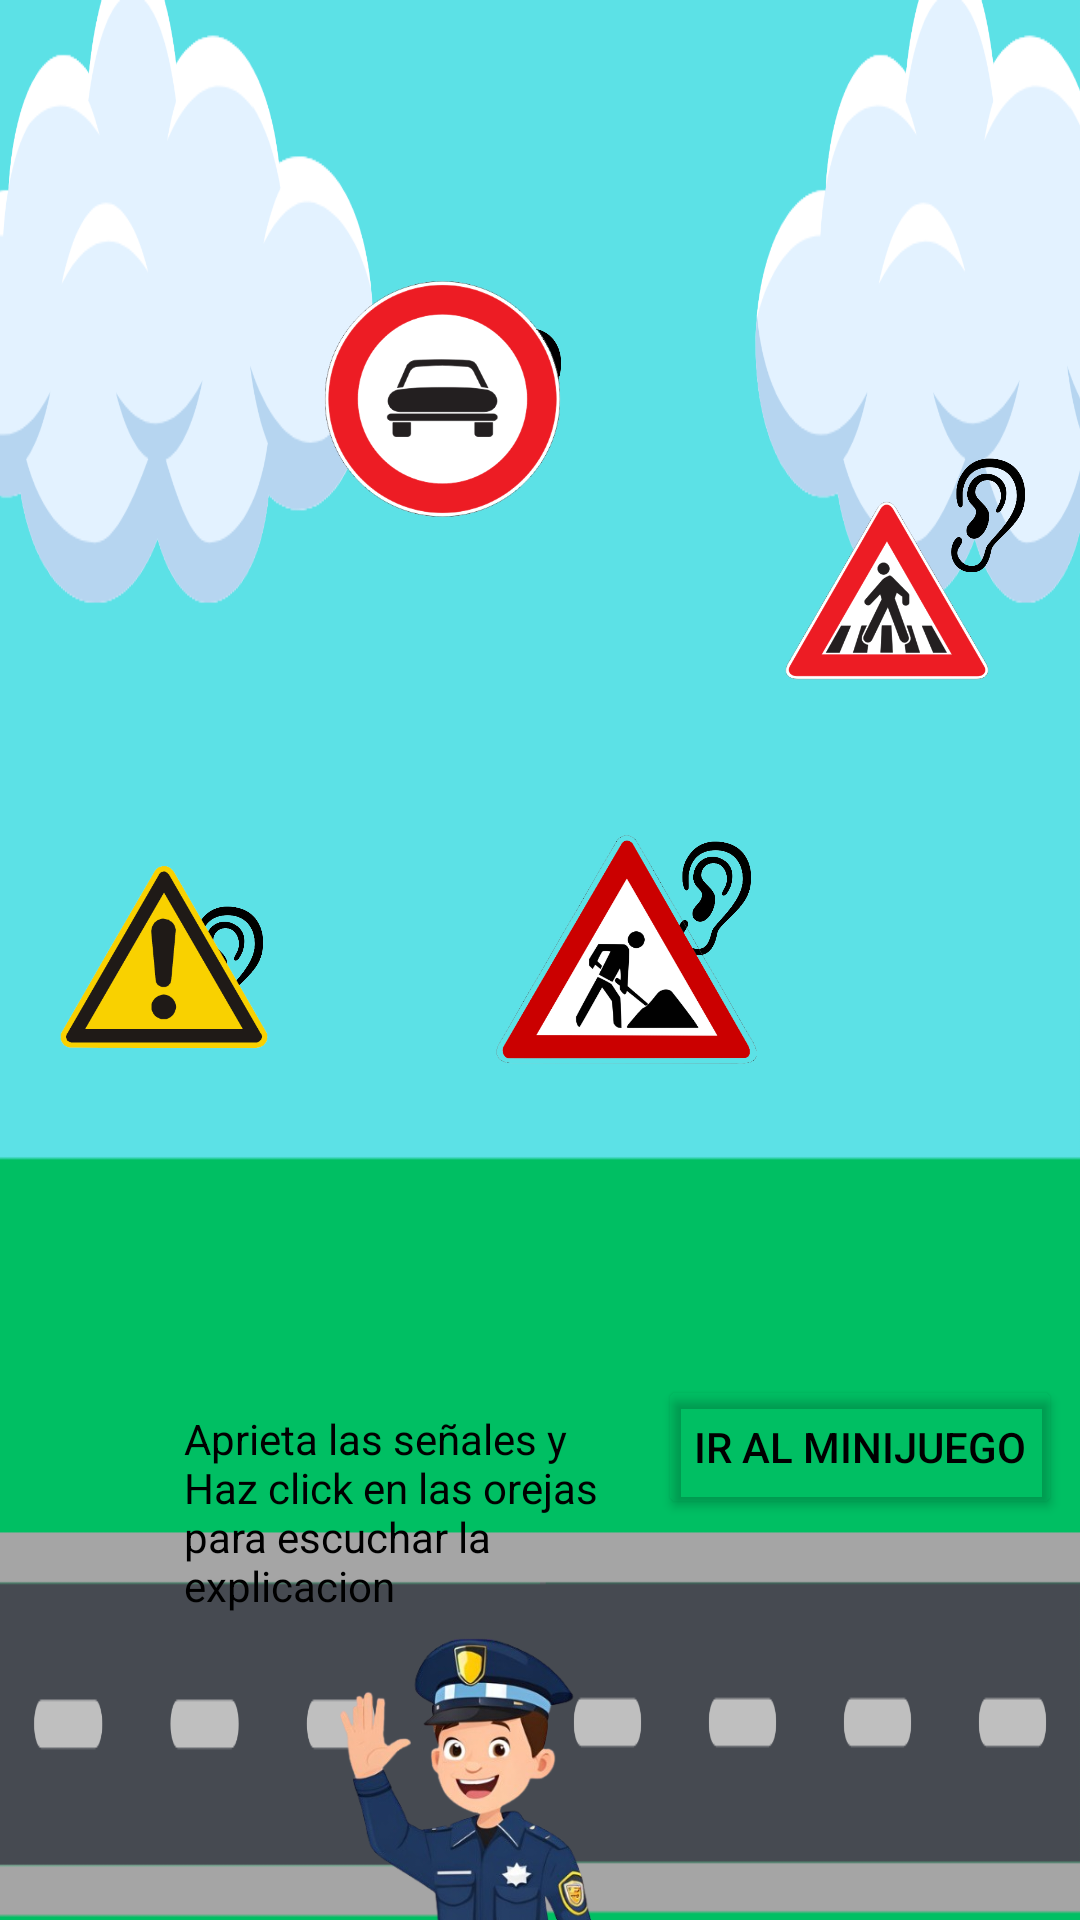

Icons on this 1080*1920 Android screen, each with its box as bbox(x1, y1, x2, y2):
personaje del juego: bbox(300, 1639, 621, 1920)
